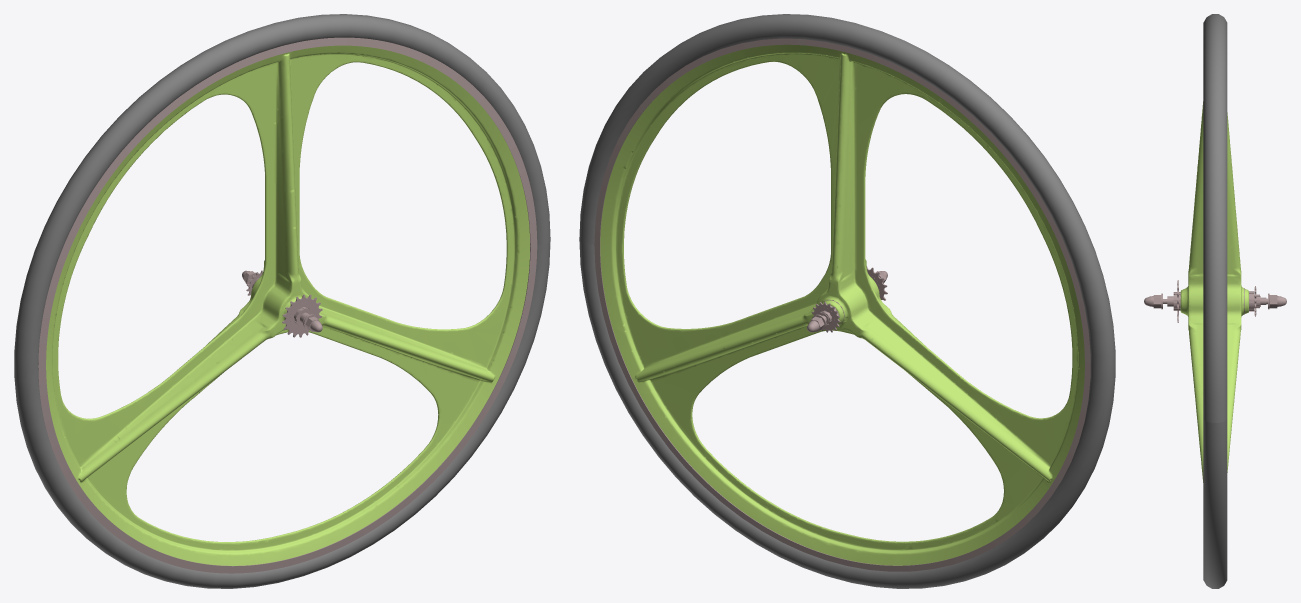
Rendered from RearWheel2_3spokeMag.glb.
3 renders of one model, left to right at view 1: azimuth 30°, elevation 25°; view 2: azimuth 150°, elevation 25°; view 3: azimuth 270°, elevation 25°, orthographic. The views are drawn at different scales.
Parts seen in each view (by area): view 1: no_transformations; view 2: no_transformations; view 3: no_transformations.
Boxes of the visible parts, <box> form: no_transformations: <box>14,14,550,588</box>; no_transformations: <box>579,14,1115,588</box>; no_transformations: <box>1144,14,1286,588</box>.
Size of the model in its own units: 743 by 743 by 185.
